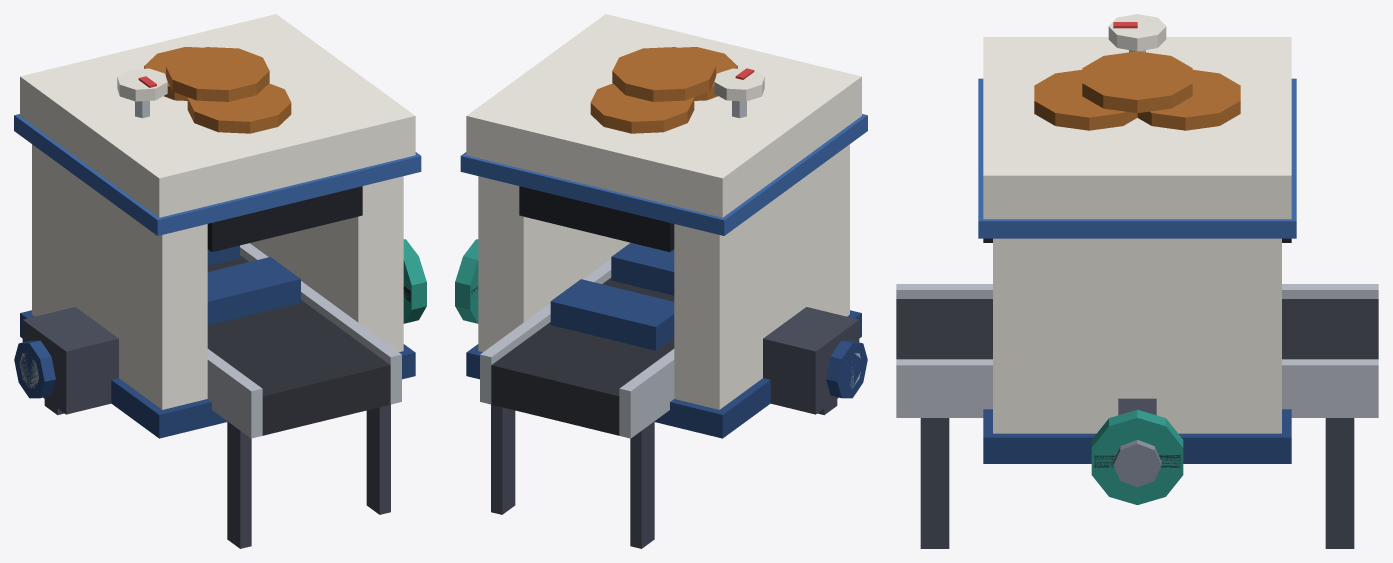
The model's file is pasteurizer.glb.
3 renders of one model, left to right at view 1: azimuth 30°, elevation 25°; view 2: azimuth 150°, elevation 25°; view 3: azimuth 270°, elevation 25°, orthographic. The views are drawn at different scales.
Parts seen in each view (by area): view 1: pasteurizer, spin-x; view 2: pasteurizer, spin-x; view 3: pasteurizer, spin-x.
Part boxes in pixels (<box>): pasteurizer: <box>14,14,421,548</box>; spin-x: <box>403,239,426,323</box>; pasteurizer: <box>460,14,867,548</box>; spin-x: <box>455,239,478,323</box>; pasteurizer: <box>896,14,1378,548</box>; spin-x: <box>1091,409,1183,504</box>.
Size of the model in its own units: 1.02 by 1.01 by 1.
Materials: 2 (2 with a texture image).
